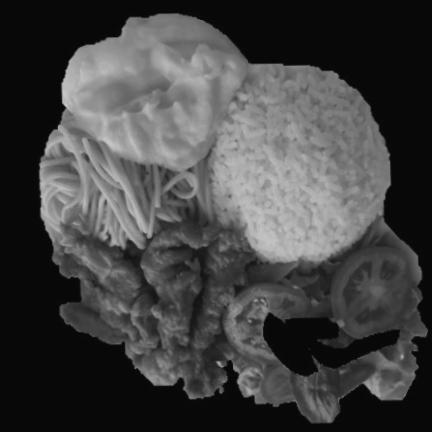rice: (209, 71, 389, 262)
